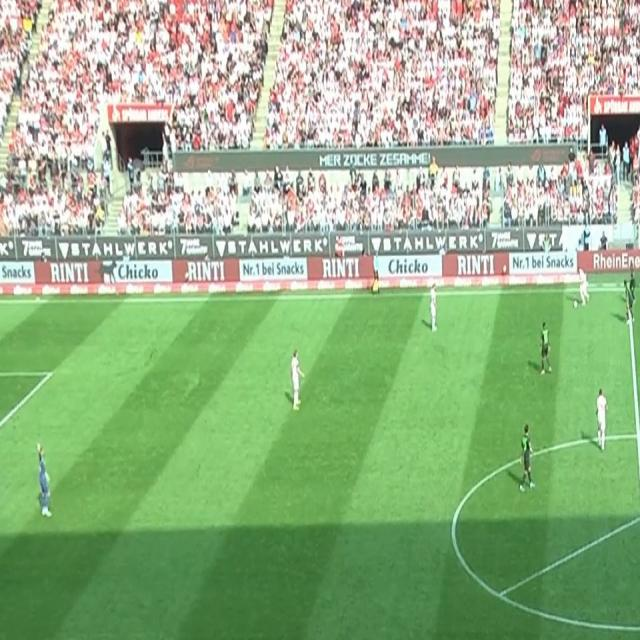ball: (573, 299, 578, 309)
